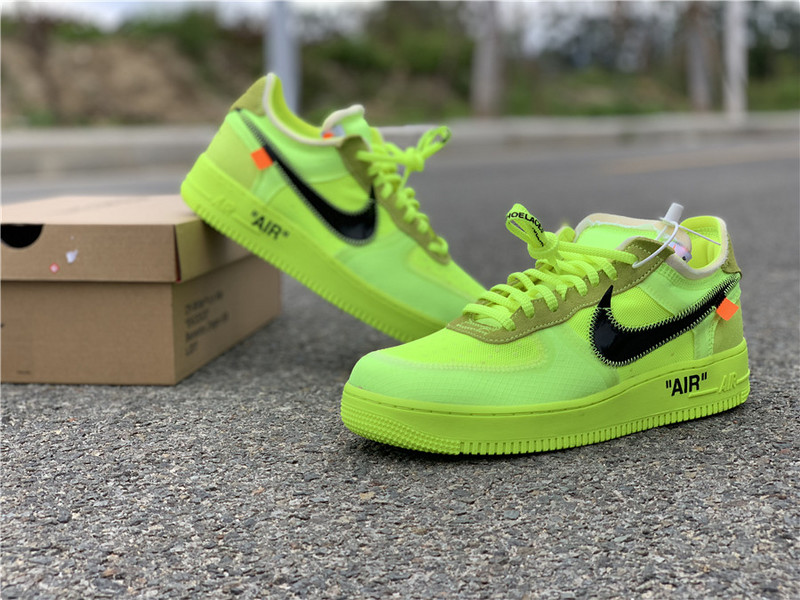Air Force One Volt: (336, 208, 758, 469), (179, 67, 493, 336)
